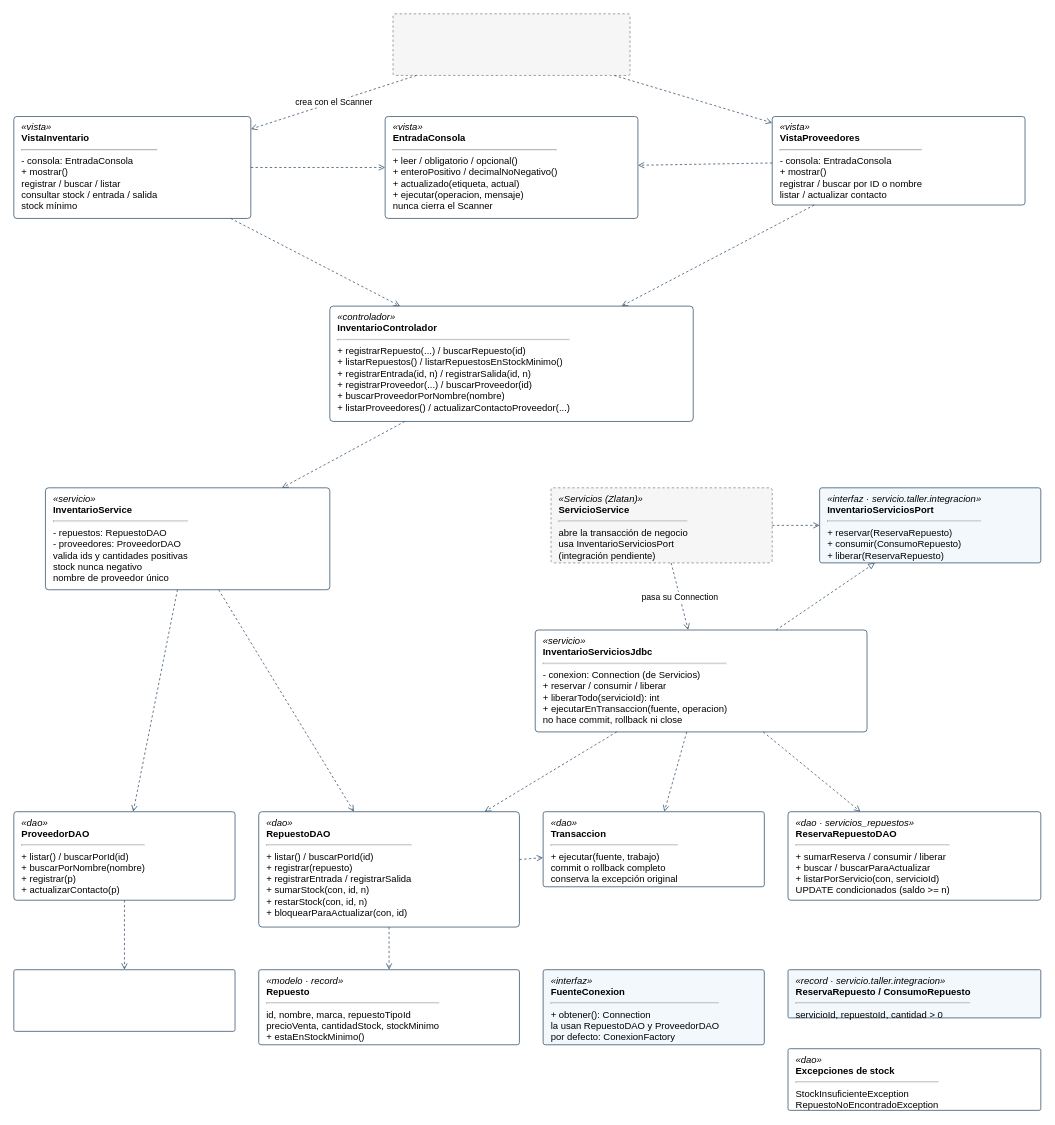
Image size: 1055x1125. Some labels were removed from this diagram. The centre of each missing label's shape, as x and y in pixels:
«modelo · record» Proveedor id, nombre (único) personaContacto, telefono, email: point 124,1000
«Servicios conecta» MenuPrincipal + mostrar() Scanner compartido (System.in): point 511,44
